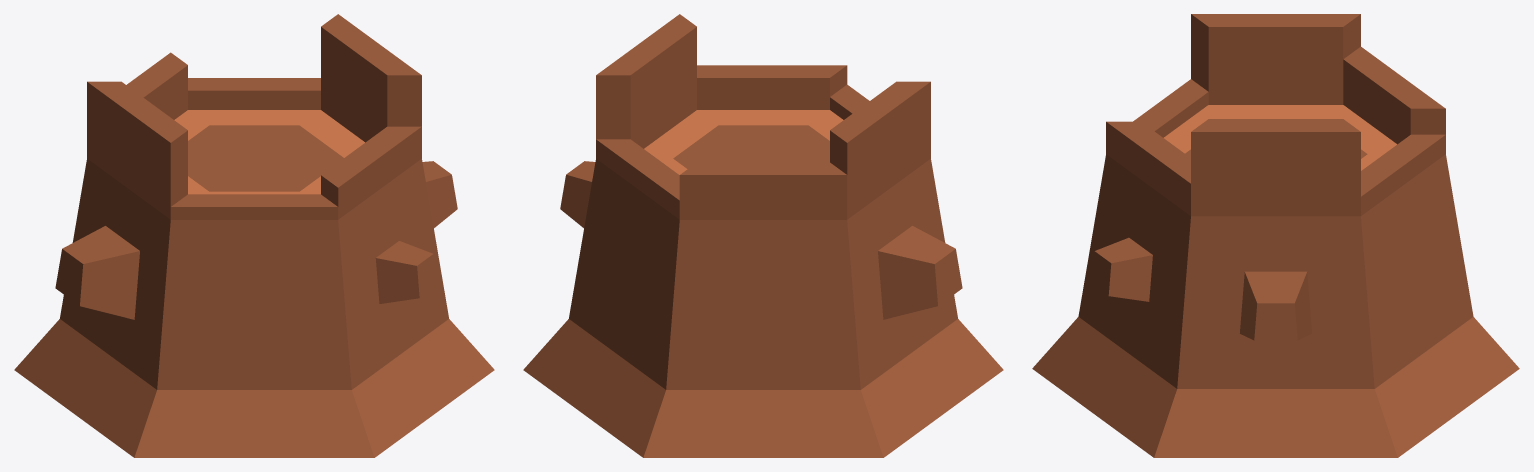
Rendered from trunk.dae.
The picture shows the model from 3 angles, left to right: view 1: azimuth 30°, elevation 25°; view 2: azimuth 150°, elevation 25°; view 3: azimuth 270°, elevation 25°; orthographic projection.
Visible parts, largest first — view 1: trunk; view 2: trunk; view 3: trunk.
Part boxes in pixels (box(x1,y1,x2,y2)): trunk: box(14, 14, 494, 457); trunk: box(523, 14, 1003, 457); trunk: box(1032, 14, 1519, 457).
Bounding box in the file's own units: 0.5021 × 0.3726 × 0.5508.
